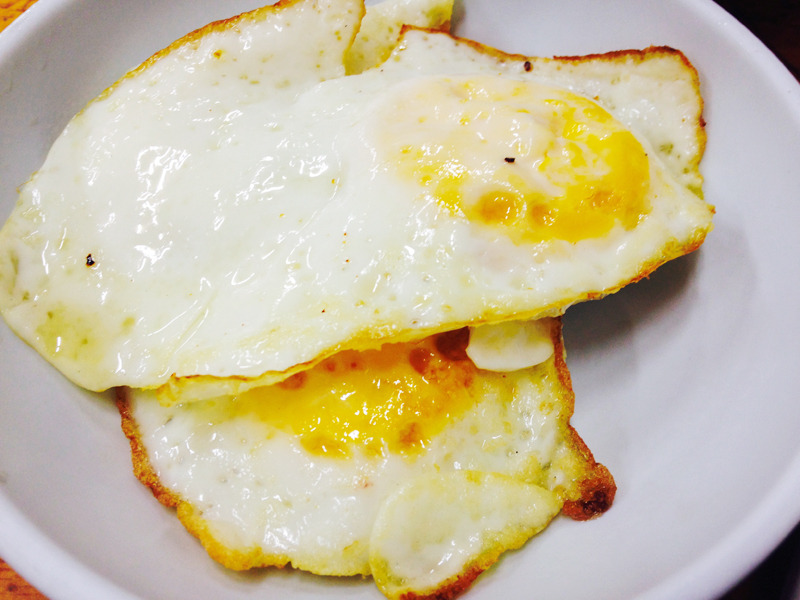gyelanhulai: (13, 10, 718, 575)
